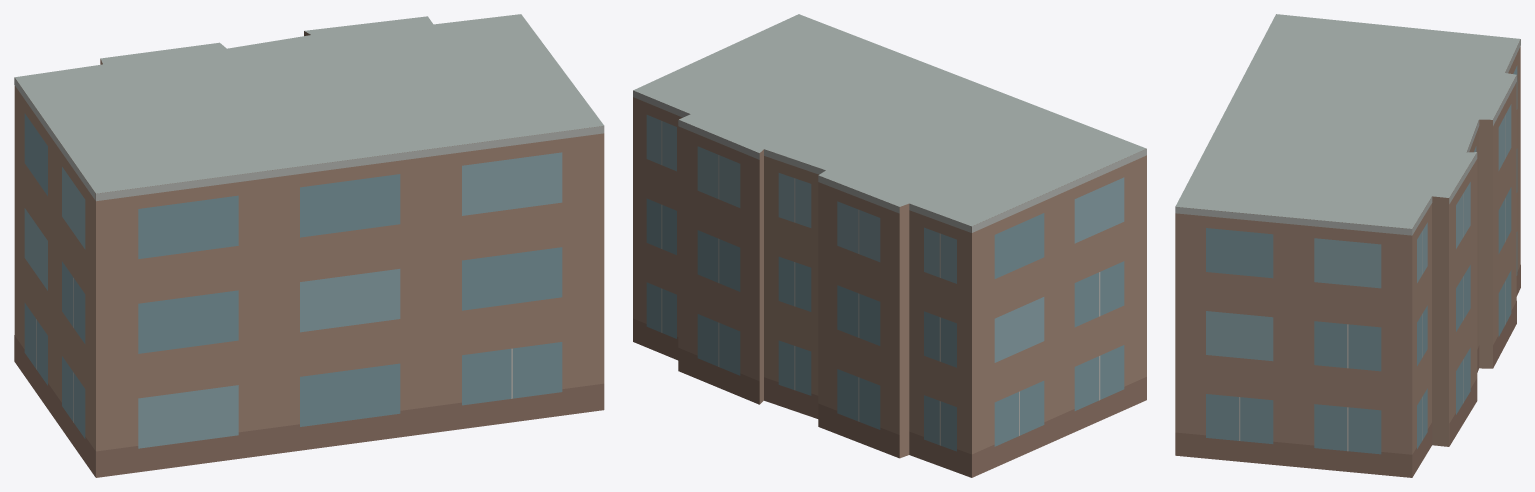
Rendered from survey-upis-32544063.glb.
The picture shows the model from 3 angles, left to right: view 1: azimuth 30°, elevation 25°; view 2: azimuth 150°, elevation 25°; view 3: azimuth 270°, elevation 25°; orthographic projection. The views are drawn at different scales.
Parts seen in each view (by area): view 1: survey-upis-32544063.tmp; view 2: survey-upis-32544063.tmp; view 3: survey-upis-32544063.tmp.
Part boxes in pixels (box(x1,y1,x2,y2)): survey-upis-32544063.tmp: box(14, 14, 604, 477); survey-upis-32544063.tmp: box(633, 14, 1146, 477); survey-upis-32544063.tmp: box(1175, 14, 1520, 477).
Size of the model in its own units: 16.96 by 9.15 by 11.52.
